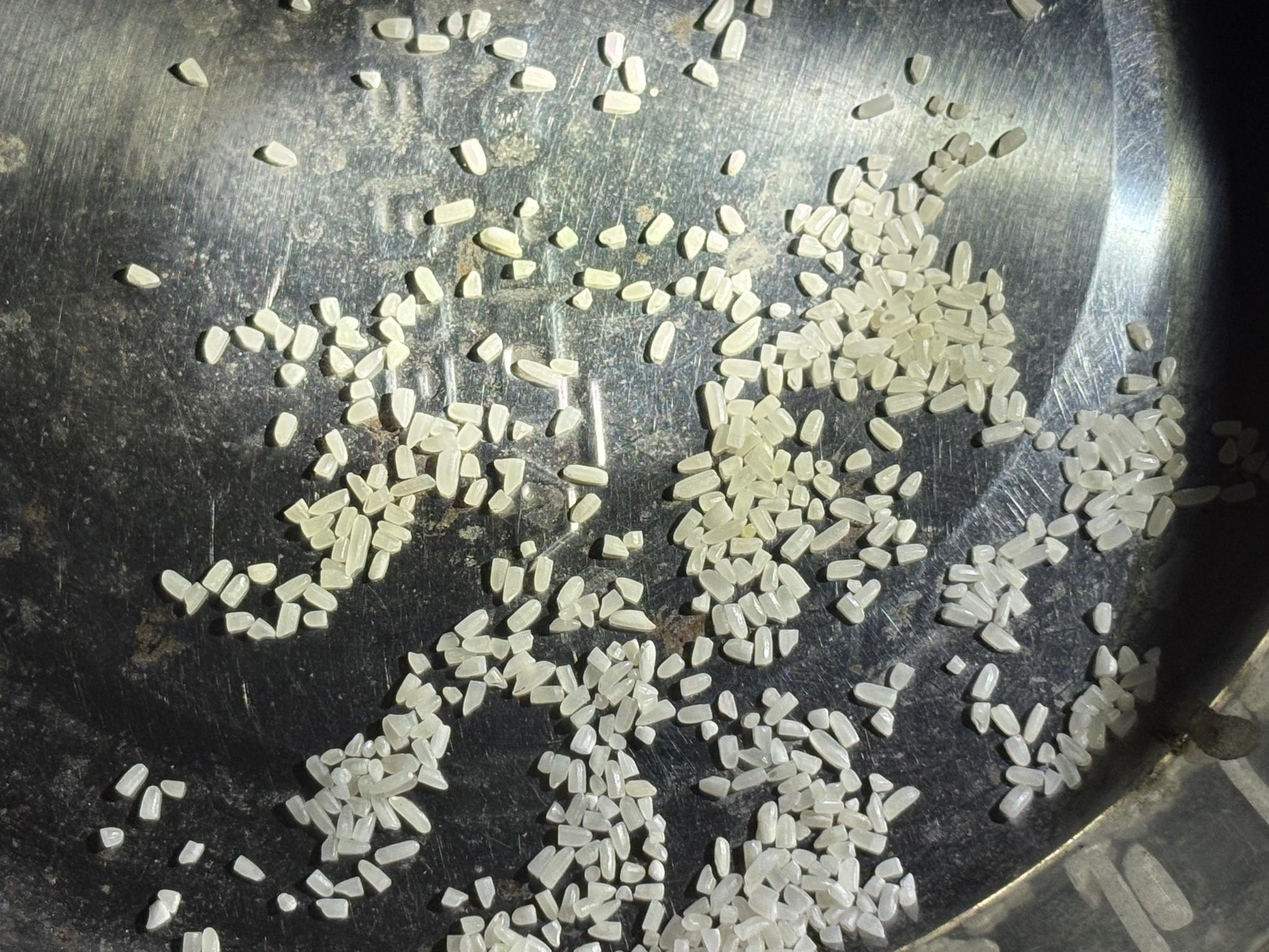Rice-th-y-nh: (1220, 753, 1269, 826), (741, 842, 791, 896), (340, 514, 379, 579), (983, 364, 1022, 425), (364, 765, 419, 805), (719, 313, 763, 361), (806, 727, 852, 772), (516, 353, 565, 395), (389, 791, 433, 837), (673, 464, 721, 506), (841, 329, 895, 365), (512, 656, 556, 700), (479, 220, 523, 264), (538, 844, 577, 893), (698, 379, 733, 431), (943, 240, 978, 291), (810, 514, 851, 557), (707, 870, 744, 917), (432, 192, 476, 231), (894, 872, 927, 924), (829, 162, 866, 208), (374, 834, 420, 871), (933, 314, 981, 349), (700, 0, 744, 38), (389, 468, 436, 503), (928, 378, 968, 419), (635, 694, 677, 732), (411, 263, 447, 307), (1093, 433, 1129, 477), (779, 521, 818, 561), (719, 351, 763, 386), (1144, 494, 1178, 539), (698, 565, 735, 606), (287, 321, 322, 364), (980, 416, 1024, 450), (646, 319, 679, 364), (882, 784, 921, 822), (868, 413, 904, 454), (746, 881, 781, 922), (402, 408, 436, 450), (752, 800, 783, 846), (702, 515, 748, 546), (718, 19, 751, 62), (387, 385, 419, 429), (596, 658, 634, 695), (199, 324, 233, 365), (909, 232, 942, 274), (480, 909, 513, 951), (506, 597, 543, 634), (368, 792, 402, 832), (805, 294, 845, 328), (274, 571, 313, 605), (446, 396, 485, 430), (980, 623, 1022, 654), (861, 792, 892, 834), (598, 759, 629, 801), (357, 858, 393, 894), (218, 572, 252, 610), (777, 562, 811, 600), (748, 625, 778, 668), (829, 496, 872, 526), (459, 679, 491, 719), (620, 55, 652, 95), (272, 600, 304, 640), (610, 694, 641, 735), (887, 369, 928, 400), (113, 763, 148, 799), (764, 691, 799, 727), (483, 402, 513, 444), (781, 881, 815, 918), (770, 813, 802, 852), (593, 838, 622, 881), (848, 826, 888, 857), (634, 640, 662, 684), (873, 881, 903, 922), (599, 29, 629, 70), (1056, 732, 1091, 767), (731, 763, 767, 797), (799, 319, 832, 356), (200, 558, 233, 595), (729, 288, 762, 325), (671, 507, 704, 544), (1096, 521, 1133, 554), (377, 12, 414, 45), (554, 883, 583, 925), (819, 212, 851, 250), (720, 602, 752, 640), (828, 710, 860, 748), (656, 913, 687, 952), (747, 504, 778, 543), (797, 408, 828, 447), (709, 836, 737, 879), (498, 564, 528, 604), (803, 204, 837, 239), (569, 491, 603, 526), (603, 674, 638, 708), (677, 446, 714, 478), (726, 462, 758, 499), (616, 795, 647, 833), (605, 822, 634, 862), (558, 683, 591, 718), (766, 404, 799, 439), (1005, 763, 1046, 791), (529, 679, 566, 710), (737, 590, 768, 627), (1052, 751, 1082, 789), (697, 264, 727, 302), (679, 224, 709, 262), (834, 856, 864, 894), (866, 515, 899, 549), (995, 556, 1028, 590), (235, 321, 267, 356), (1022, 703, 1050, 743), (303, 583, 339, 614), (677, 698, 713, 729), (408, 712, 444, 743), (714, 733, 744, 770), (772, 583, 802, 620), (271, 411, 301, 448), (136, 785, 166, 822), (971, 662, 1000, 700), (722, 634, 755, 667), (1079, 465, 1113, 497), (989, 703, 1021, 737), (831, 284, 865, 316), (789, 747, 824, 778), (1012, 542, 1048, 572), (941, 601, 978, 630), (808, 352, 836, 390), (750, 391, 782, 424), (526, 844, 557, 878), (454, 420, 485, 454), (316, 892, 350, 923), (958, 593, 993, 623), (644, 212, 674, 247), (814, 822, 849, 852), (411, 737, 441, 772), (475, 330, 505, 365), (732, 913, 767, 943), (569, 722, 599, 757), (899, 210, 928, 246), (1074, 438, 1103, 474), (588, 916, 624, 945), (961, 377, 989, 414), (563, 758, 591, 795), (545, 752, 573, 789), (709, 276, 737, 313), (707, 421, 735, 458), (427, 722, 454, 760), (836, 807, 874, 834), (530, 555, 557, 593), (753, 416, 785, 448), (757, 591, 788, 624), (1111, 467, 1144, 498), (852, 279, 883, 312), (589, 896, 623, 926), (573, 836, 603, 870), (596, 587, 626, 621), (980, 341, 1014, 371), (893, 180, 922, 215), (738, 837, 766, 873), (471, 874, 499, 910), (723, 413, 750, 450), (926, 358, 953, 395), (1156, 415, 1187, 447), (464, 8, 494, 41), (908, 282, 938, 315), (1002, 735, 1032, 768), (416, 28, 450, 57), (316, 294, 345, 328), (1061, 480, 1090, 514), (533, 887, 562, 921), (818, 316, 847, 350), (553, 662, 582, 696), (870, 190, 898, 225), (393, 293, 421, 328), (332, 504, 360, 539), (486, 556, 513, 592), (332, 804, 358, 841), (1131, 405, 1162, 436), (344, 471, 374, 503), (643, 285, 672, 318), (764, 757, 797, 786), (393, 671, 422, 704), (1089, 601, 1117, 635), (639, 899, 667, 933), (1124, 369, 1158, 397), (858, 544, 893, 571), (376, 518, 412, 544), (750, 724, 776, 760), (775, 327, 806, 357), (657, 650, 686, 682), (633, 878, 666, 906), (327, 343, 355, 376), (461, 630, 494, 658), (719, 203, 747, 236), (791, 449, 818, 483), (586, 743, 613, 777), (1003, 390, 1030, 424), (966, 302, 992, 337), (625, 775, 657, 803), (569, 702, 597, 734), (580, 808, 613, 835), (745, 476, 778, 503), (787, 201, 814, 234), (614, 749, 641, 782), (763, 362, 788, 397), (336, 835, 371, 860), (618, 858, 647, 888), (429, 413, 459, 442), (774, 506, 805, 534), (854, 578, 881, 610), (775, 626, 802, 658), (539, 917, 565, 950), (756, 560, 781, 594), (510, 901, 539, 930), (1060, 424, 1090, 452), (726, 393, 756, 421), (462, 477, 489, 508), (779, 347, 810, 374), (1154, 355, 1180, 387), (926, 330, 950, 364), (378, 316, 407, 344), (510, 254, 538, 283), (718, 452, 745, 482), (729, 267, 755, 298), (333, 875, 365, 900), (748, 547, 773, 579), (769, 448, 793, 481), (847, 306, 875, 334), (698, 487, 726, 515), (594, 793, 621, 822), (507, 627, 534, 656), (806, 778, 829, 811), (698, 925, 726, 952), (854, 179, 881, 207), (973, 580, 999, 609), (720, 373, 746, 402), (864, 489, 894, 514), (1024, 512, 1049, 542), (694, 864, 718, 895), (414, 367, 437, 399), (455, 931, 490, 952), (197, 926, 225, 952), (555, 224, 581, 252), (959, 278, 989, 302), (341, 754, 371, 778), (1061, 454, 1085, 484), (553, 376, 574, 410), (840, 327, 866, 354), (586, 646, 612, 673), (714, 557, 739, 585), (894, 517, 919, 545), (458, 912, 486, 937), (641, 838, 669, 863), (378, 291, 403, 319), (767, 736, 791, 765), (580, 661, 604, 690), (178, 840, 205, 865), (923, 264, 951, 288), (757, 341, 780, 370), (328, 534, 351, 563), (488, 635, 513, 661), (445, 10, 467, 39), (596, 712, 617, 742), (706, 539, 729, 566), (343, 732, 366, 759), (635, 795, 658, 822), (785, 364, 807, 392), (806, 904, 828, 932), (920, 163, 942, 191), (483, 666, 508, 690), (683, 525, 706, 551), (524, 933, 555, 952), (1076, 407, 1100, 431), (819, 852, 842, 877), (789, 483, 811, 509), (718, 903, 741, 927), (606, 730, 629, 754), (511, 418, 534, 442), (576, 604, 599, 628), (823, 780, 847, 803), (805, 497, 827, 522), (536, 749, 557, 775), (364, 757, 385, 783), (1034, 429, 1057, 452), (372, 734, 393, 758), (700, 718, 720, 743), (943, 581, 969, 600), (933, 148, 954, 171), (587, 773, 607, 797), (571, 938, 604, 952), (582, 864, 603, 885), (741, 710, 762, 731), (814, 457, 835, 477), (613, 884, 634, 904), (398, 493, 418, 513), (592, 691, 611, 712), (564, 485, 580, 509), (669, 936, 693, 952)
